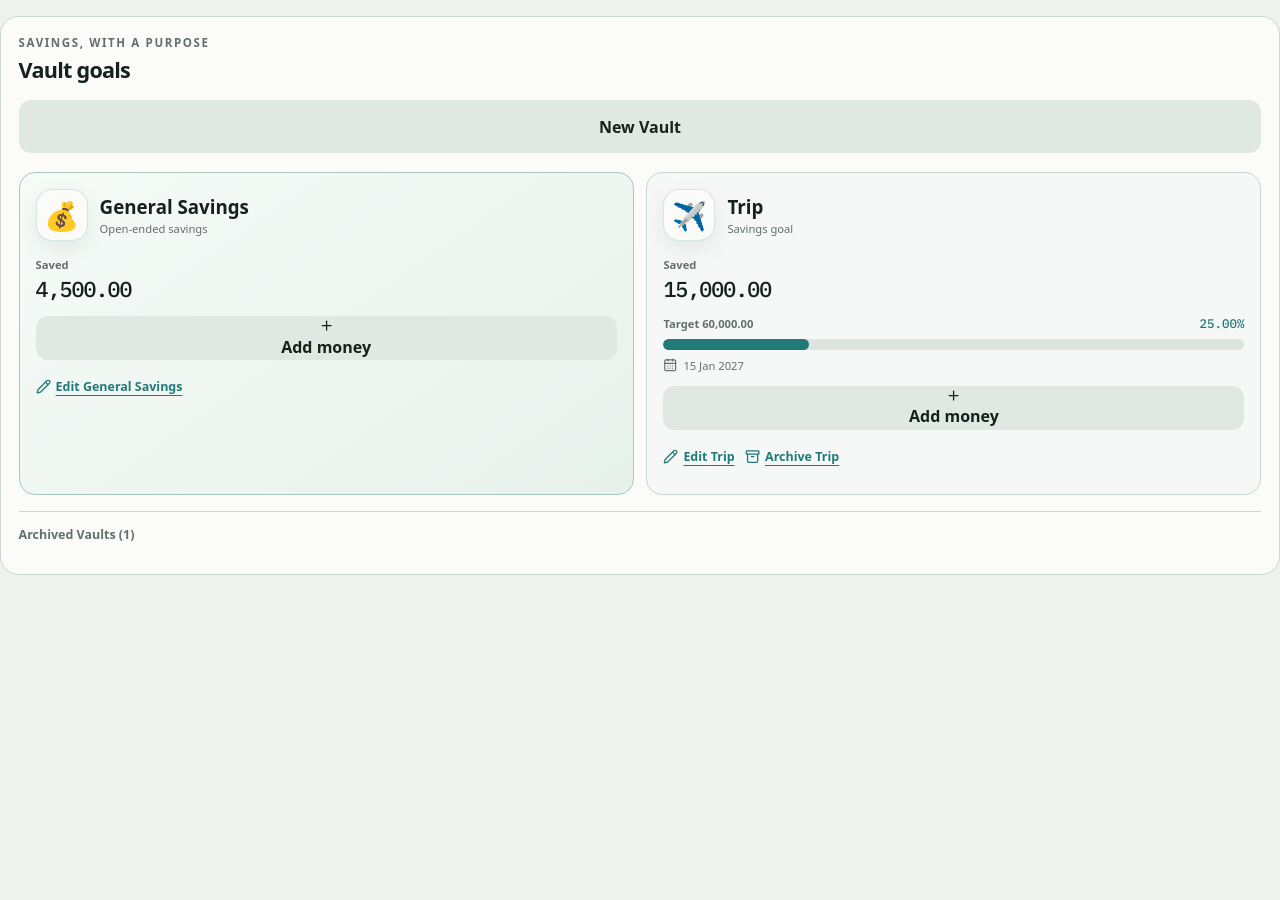
Test: VaultGoals › puts active goals first, keeps archived goals collapsed, and uses server progress accessibly
Expected: the heading "Old phone" is not shown
Expected: the element "Trip" is shown, 646,172 -> 1261,495
What coordinates should you click on to do the following:
click the heading "Archived Vaults (1)"
I would click on:
 (77, 534)
Its box is 19,526 -> 134,543.
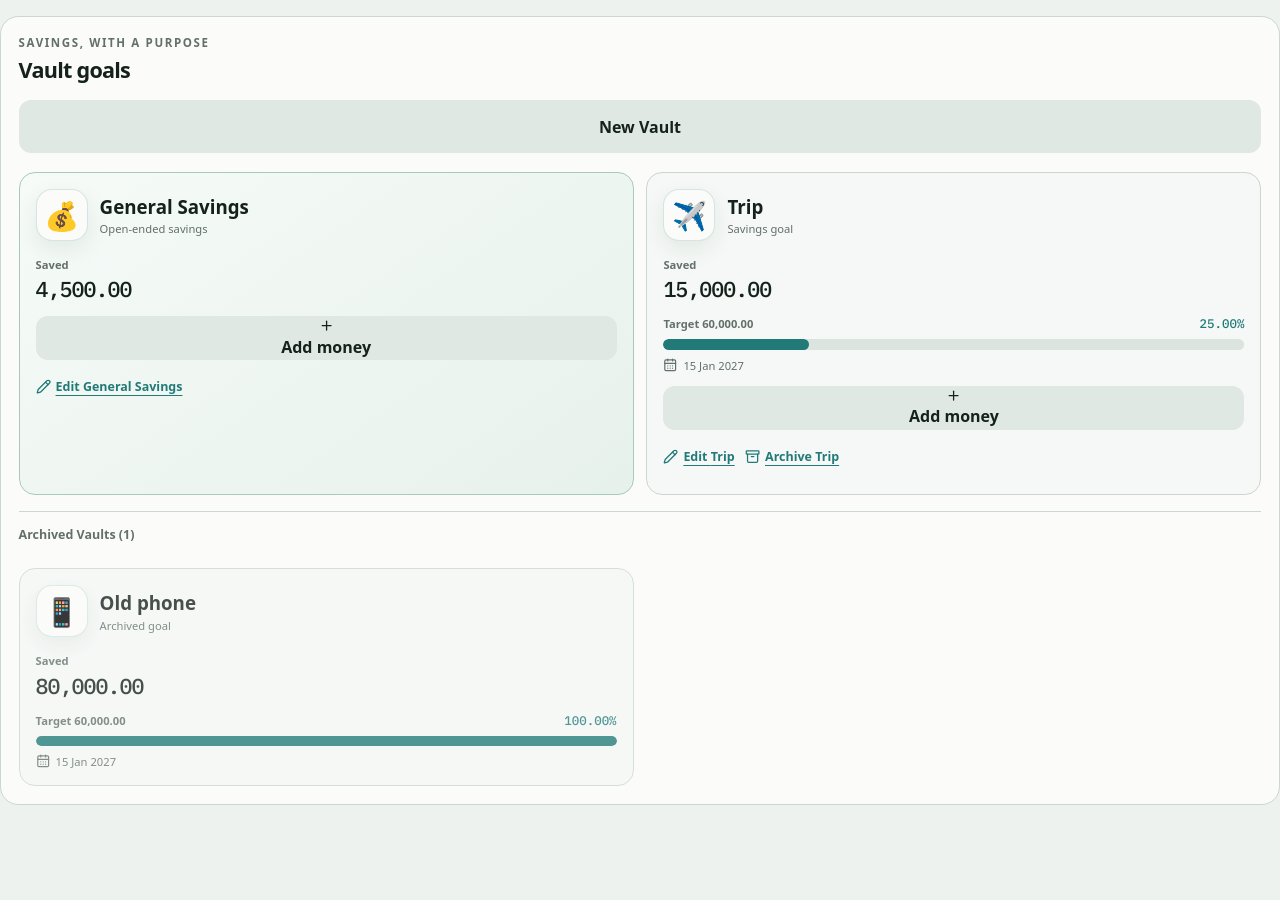
Expected: the heading "Old phone" is shown, 100,590 -> 196,615
